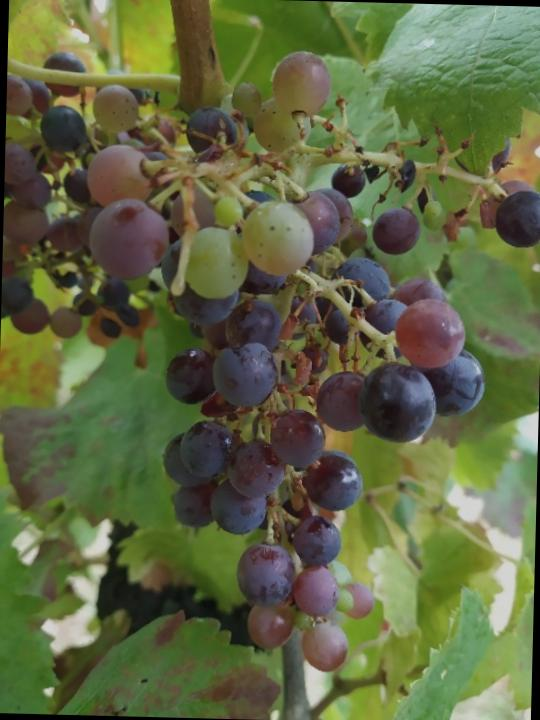grape: (0, 38, 540, 683)
